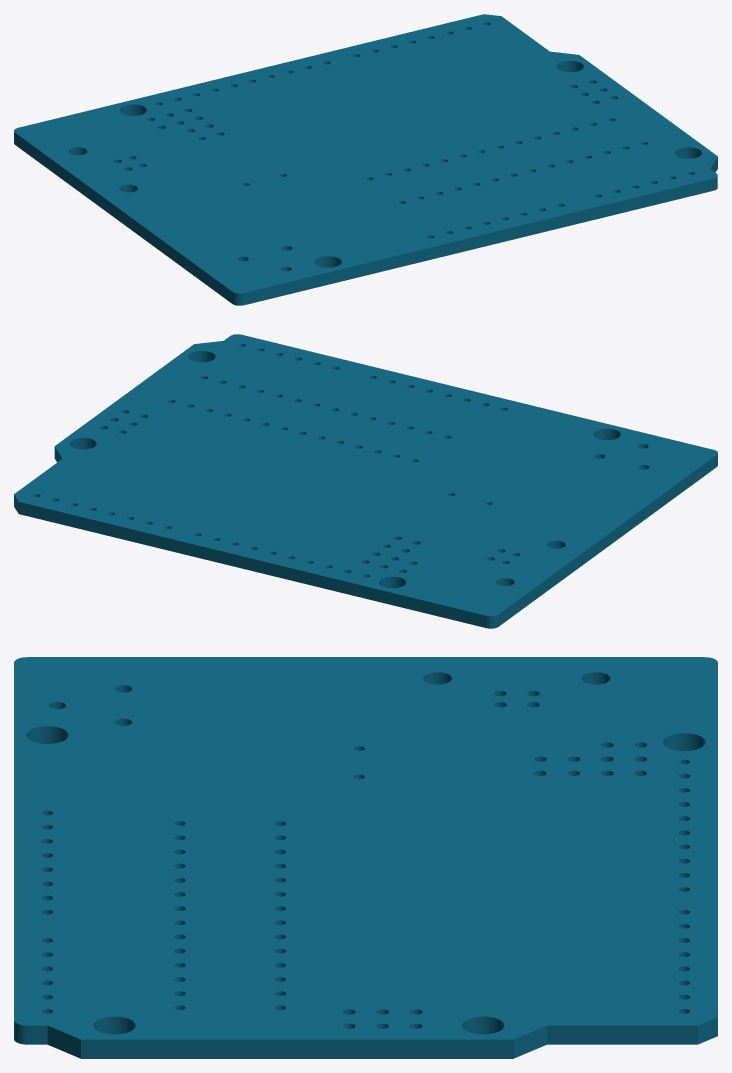
The model's file is uno-board.glb.
3 renders of one model, top to bottom at view 1: azimuth 30°, elevation 25°; view 2: azimuth 150°, elevation 25°; view 3: azimuth 270°, elevation 25°, orthographic. The views are drawn at different scales.
Size of the model in its own units: 0.0686 by 0.0016 by 0.0533.
